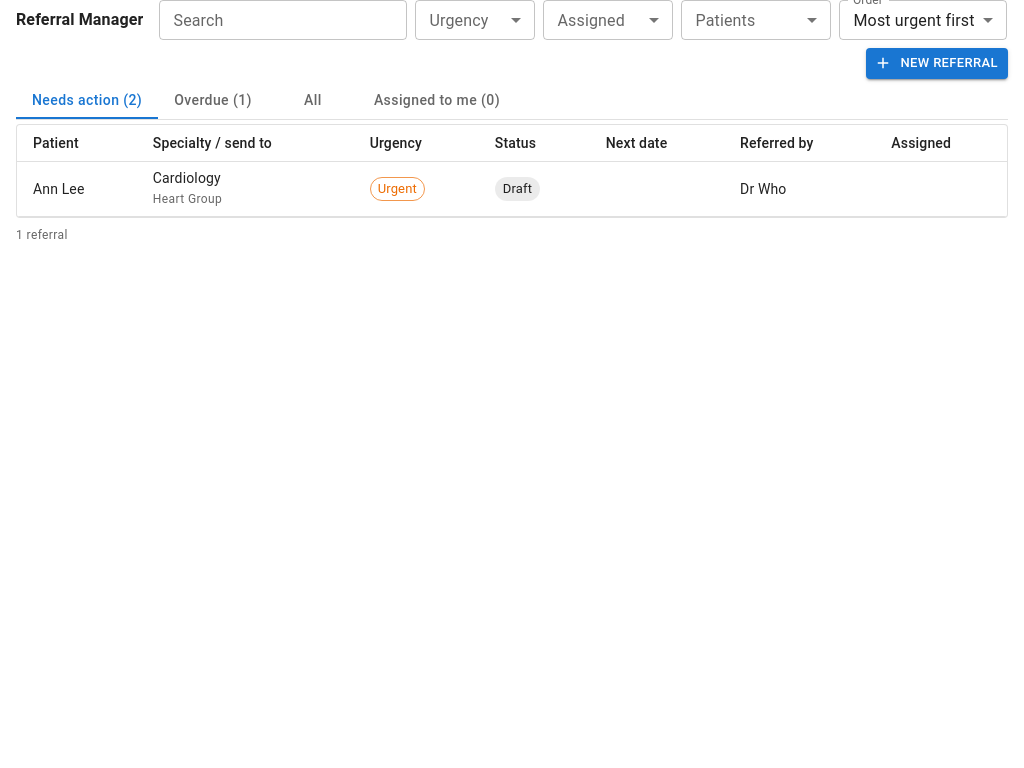
Test: the physician sees Sign and send and it posts the action
Click the row with test id "referral-row-11" at (512,189), box [17,161,1007,216]
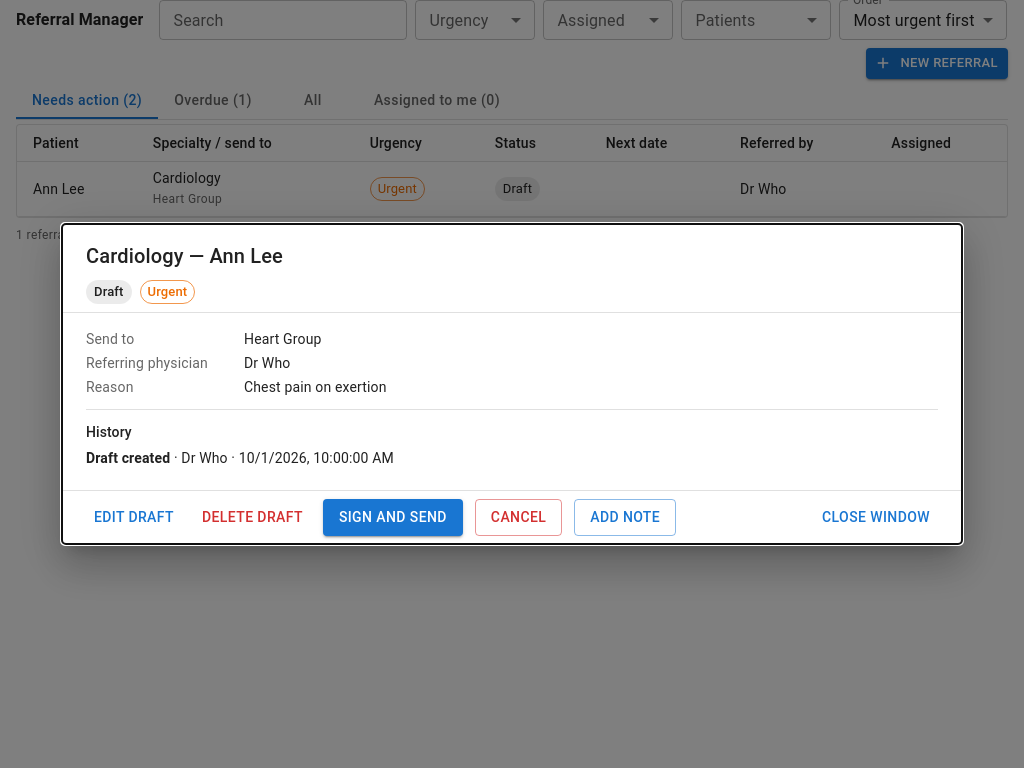
Click the button with test id "referral-action-sign_send" at (393,518), box [323,499,463,536]
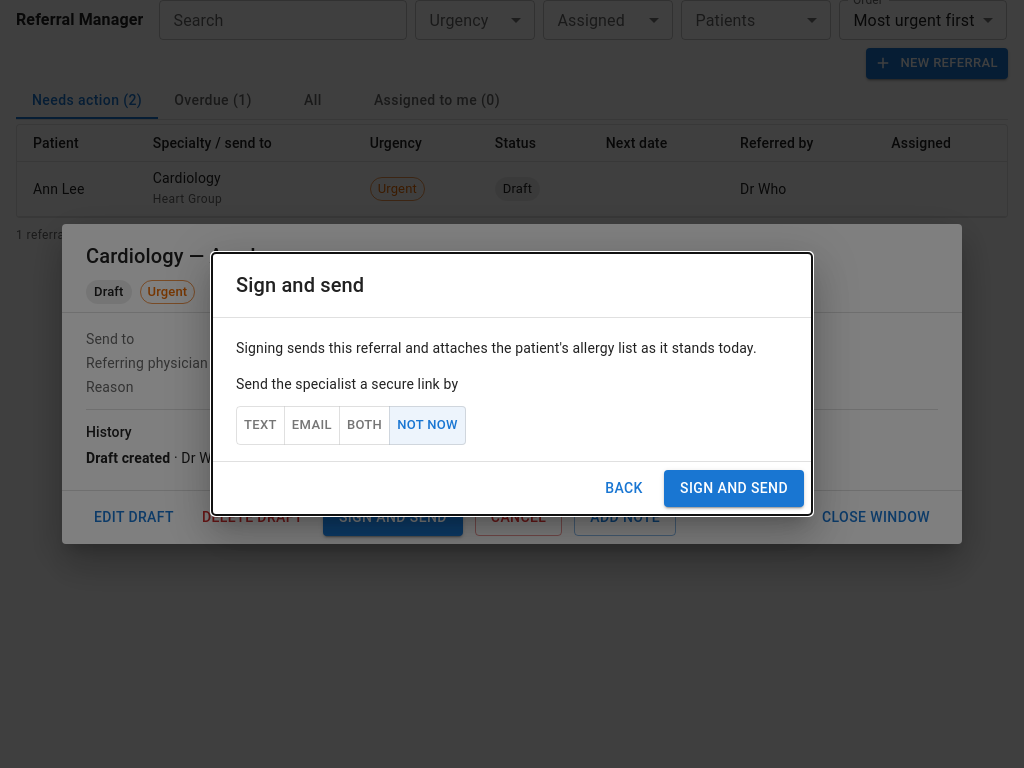
Click the button with test id "referral-action-confirm" at (734,488), box [664,470,804,507]
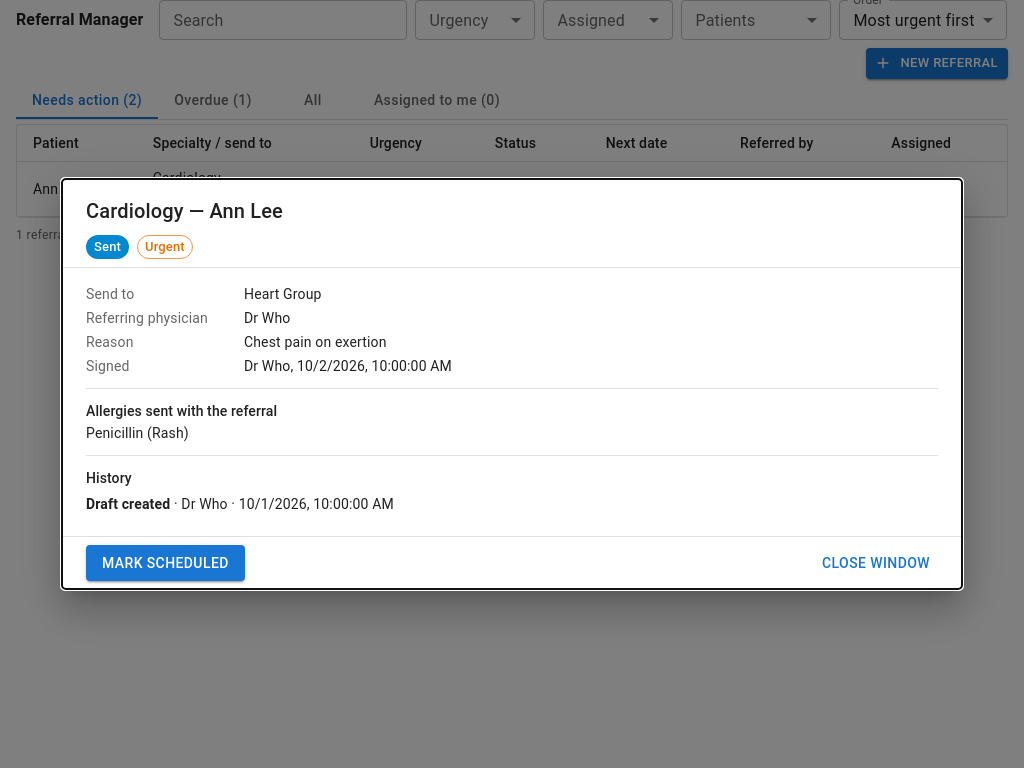
Result: the text with test id "referral-allergies" reads "Penicillin (Rash)" at [86,425,189,441]
